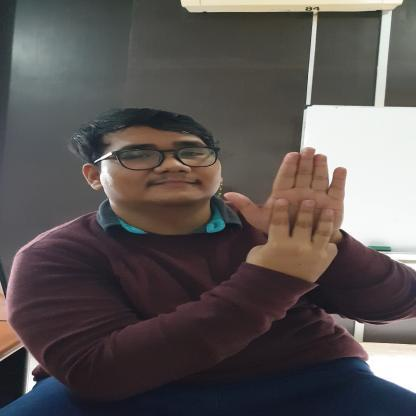M: (220, 146, 352, 262)
